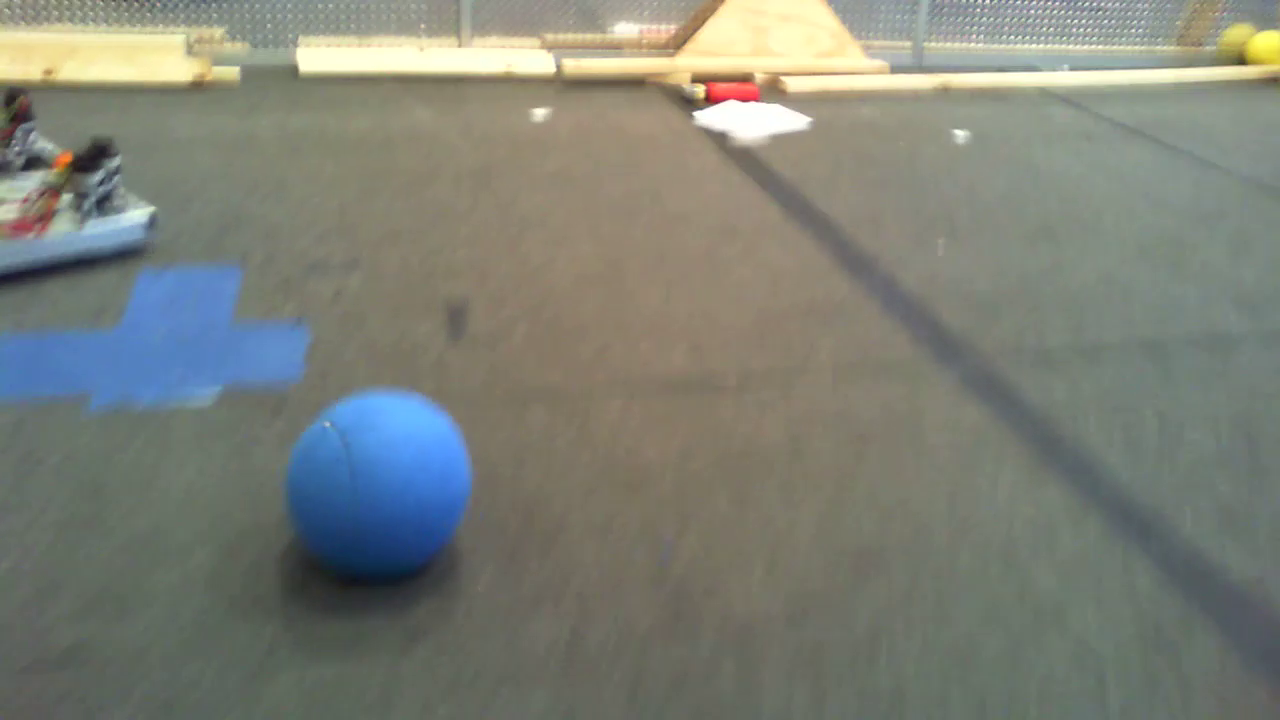blue_cargo: (284, 384, 476, 577)
